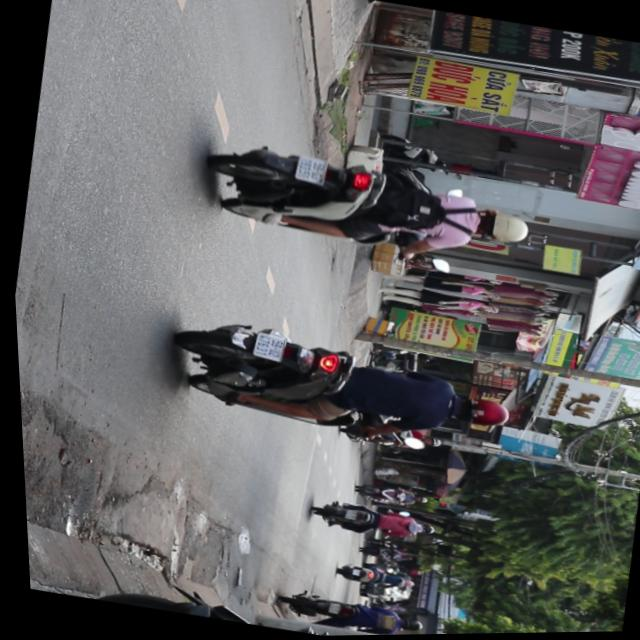helmet: (449, 391, 510, 430), (477, 207, 532, 248)
licenseplate: (159, 310, 518, 460), (196, 131, 538, 278)
nohelmet: (293, 153, 329, 185), (248, 330, 284, 361)
